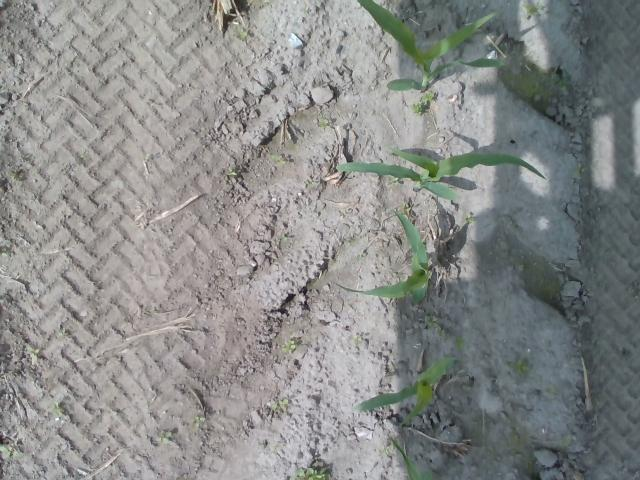Maize: (355, 0, 510, 93), (335, 144, 547, 201), (330, 204, 431, 302), (350, 355, 456, 424), (386, 433, 434, 480)
Weeds: (288, 465, 326, 480), (411, 90, 434, 114), (424, 316, 444, 336), (509, 359, 529, 376), (272, 398, 290, 412), (452, 335, 467, 351), (191, 414, 206, 428), (508, 452, 524, 464), (157, 432, 172, 444), (281, 340, 296, 352), (51, 401, 62, 417), (272, 154, 286, 166), (525, 3, 539, 15), (0, 445, 14, 456), (545, 384, 557, 396), (486, 446, 498, 457), (28, 348, 38, 361), (226, 168, 238, 176), (319, 119, 328, 129), (388, 176, 398, 184), (239, 31, 247, 41), (352, 336, 362, 344), (464, 215, 472, 224), (404, 206, 411, 212)
